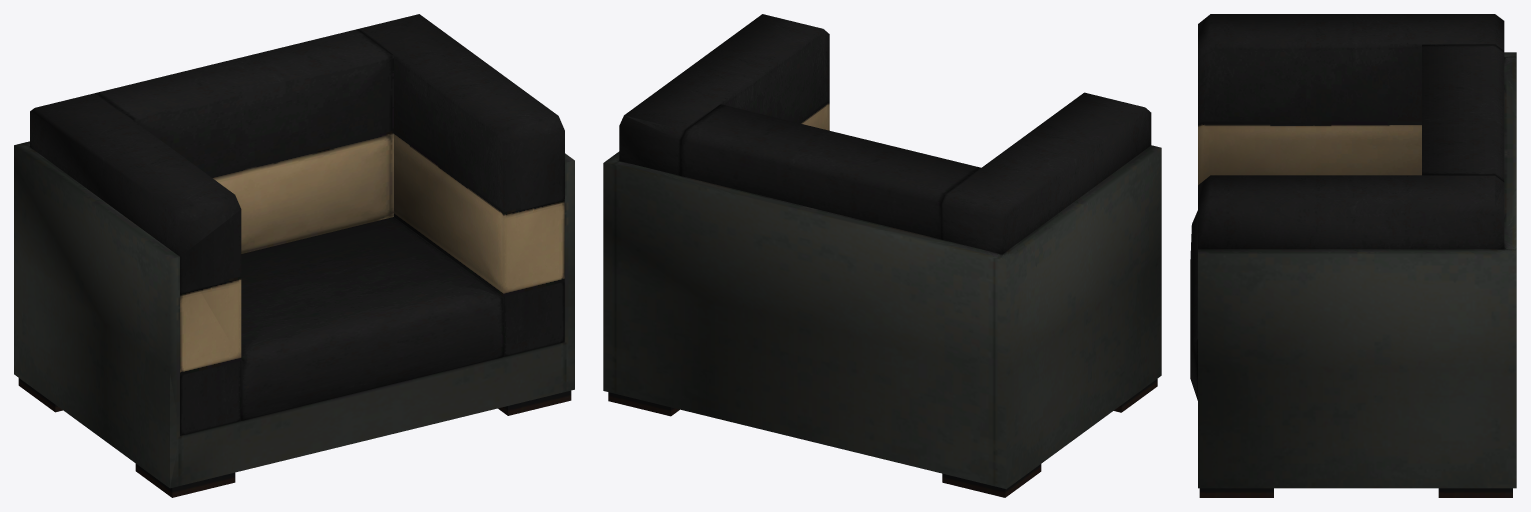
Rendered from ChairComfy01.FBX.
3 views of the same model, side by side, from view 1: azimuth 30°, elevation 25°; view 2: azimuth 150°, elevation 25°; view 3: azimuth 270°, elevation 25° (orthographic). The views are drawn at different scales.
Parts seen in each view (by area): view 1: ChairComfy01; view 2: ChairComfy01; view 3: ChairComfy01.
Boxes of the visible parts, x1,y1,x2,y2 form: ChairComfy01: (14,14,574,497); ChairComfy01: (603,14,1161,497); ChairComfy01: (1190,14,1516,497).
Size of the model in its own units: 1.5 by 0.9999 by 1.02.
